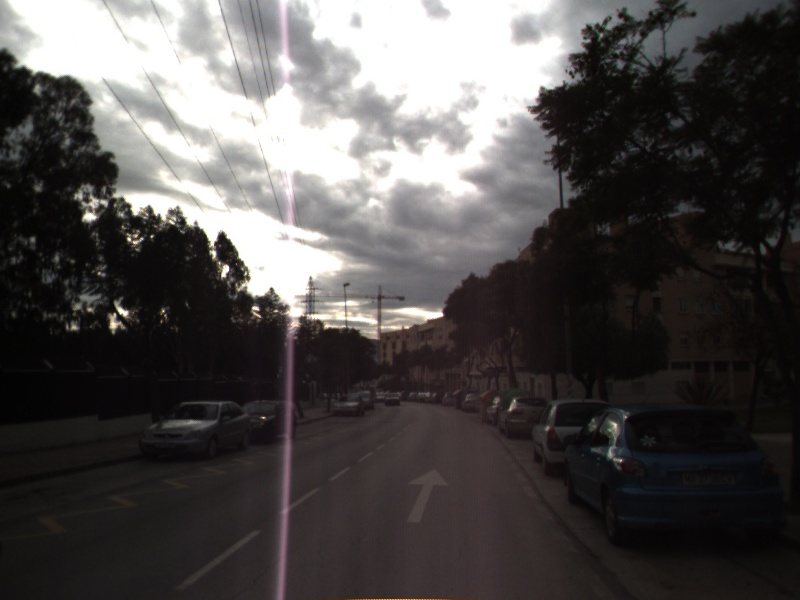STRAIGHT: (405, 466, 453, 525)
